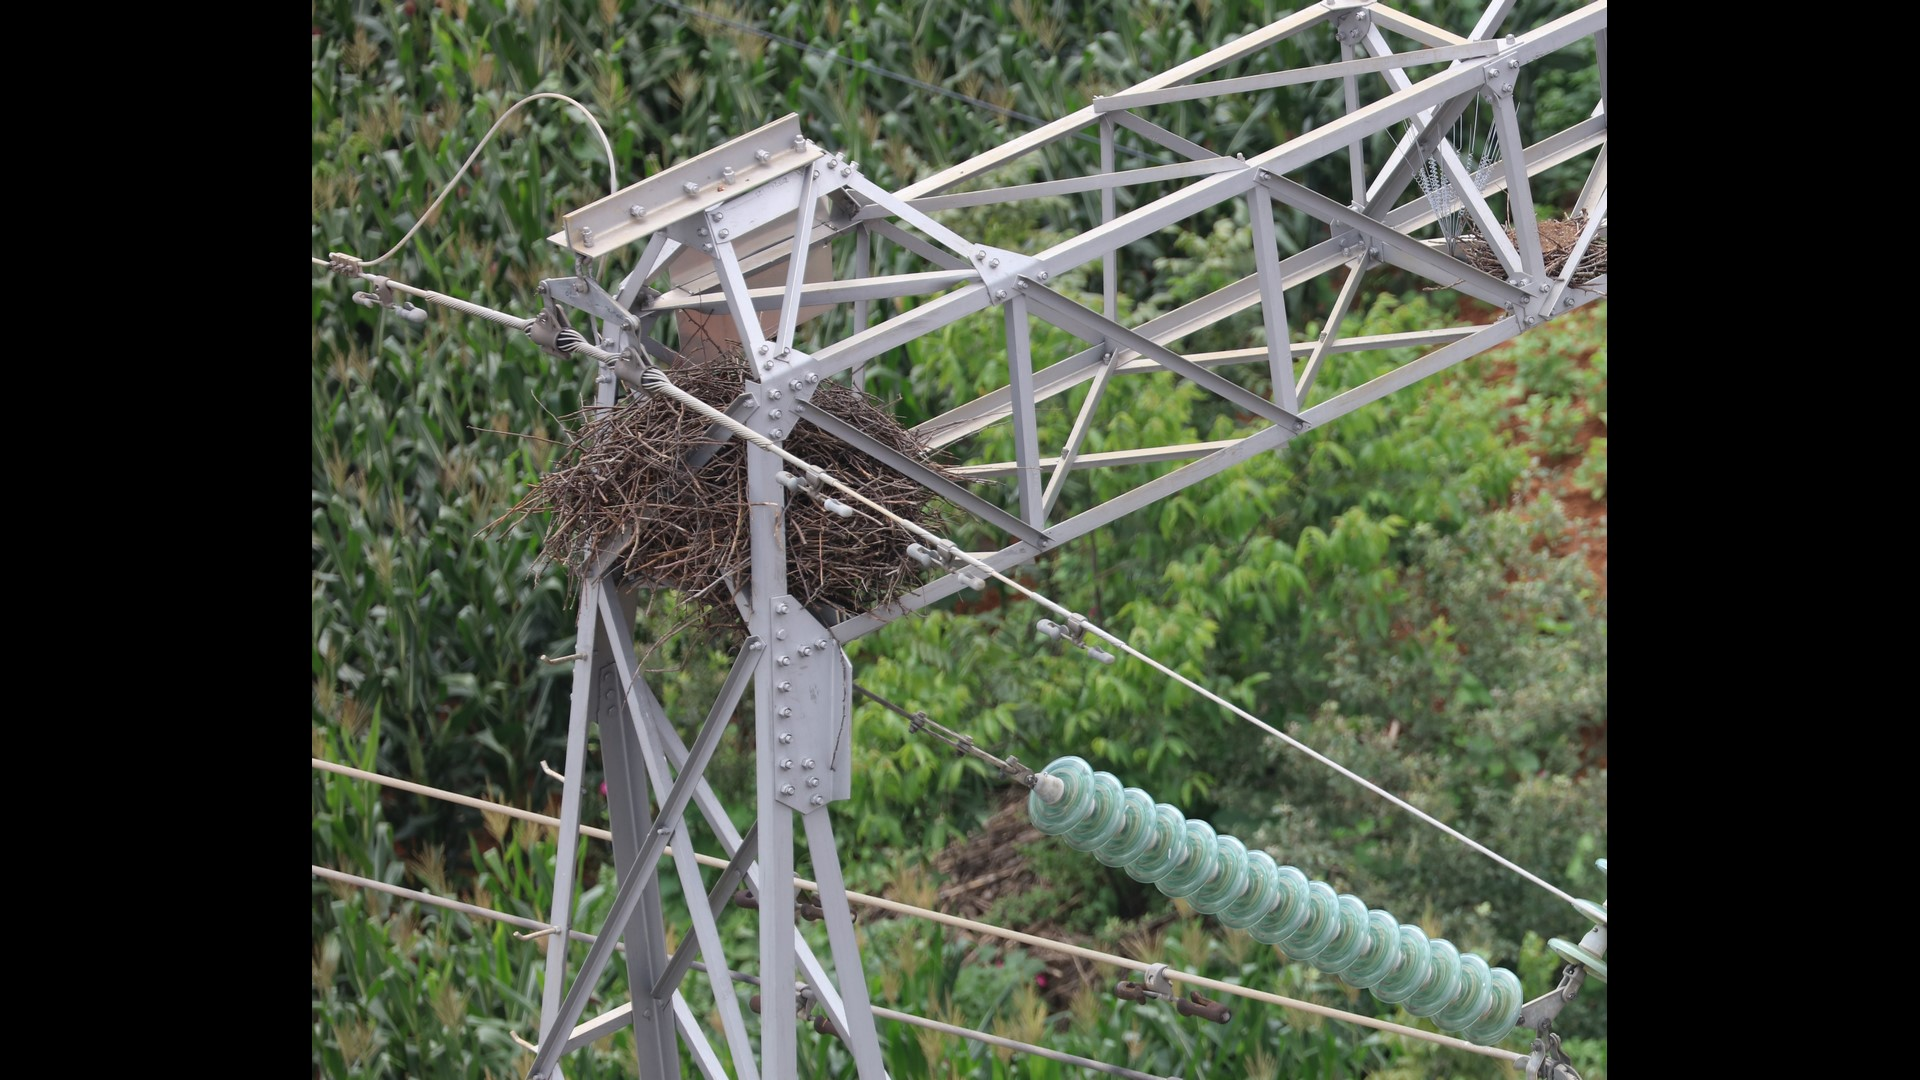niaowo: (535, 339, 953, 636)
